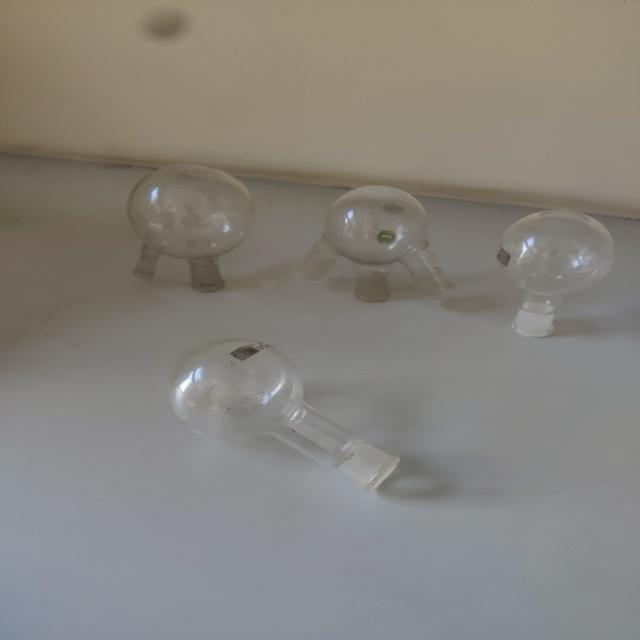Round_Bottom_Flask_Borosilicate_Glass_1_Neck: (150, 319, 428, 510), (485, 180, 630, 350)
Round_Bottom_Flask_Borosilicate_Glass_2_Neck: (107, 149, 268, 298)
Round_Bottom_Flask_Borosilicate_Glass_3_Neck: (284, 157, 464, 326)
